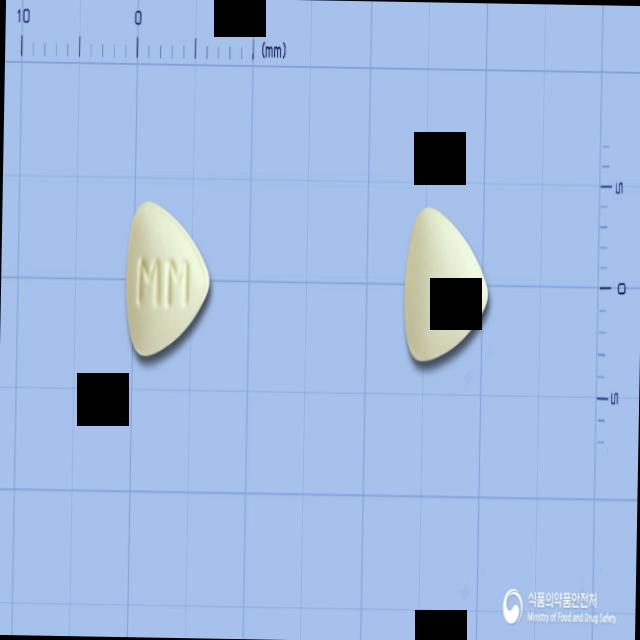Leflunomide: (124, 199, 212, 360)
